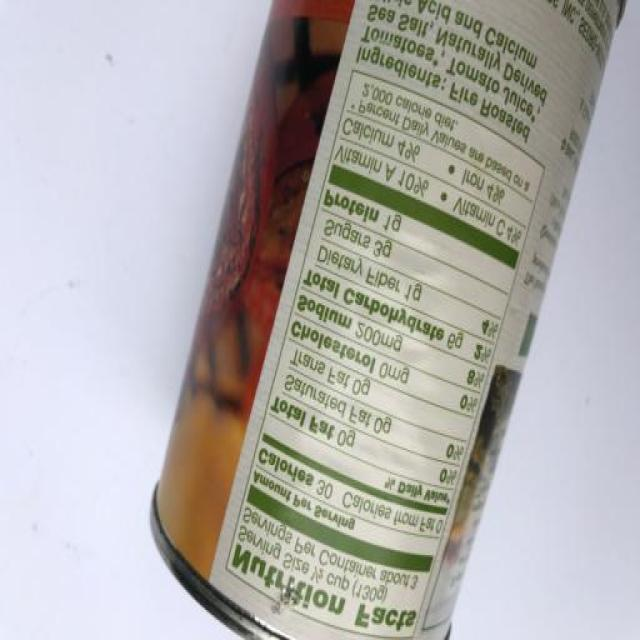Metal: (151, 0, 628, 640)
